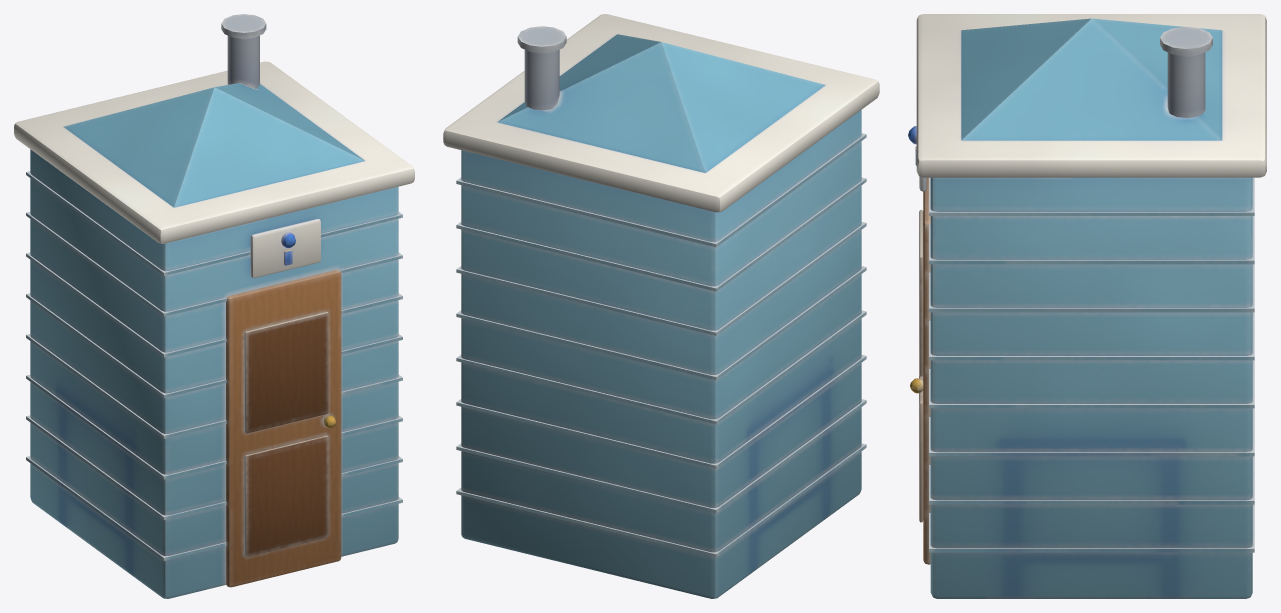
File: restroom.glb
3 renders of one model, left to right at view 1: azimuth 30°, elevation 25°; view 2: azimuth 150°, elevation 25°; view 3: azimuth 270°, elevation 25°, orthographic. The views are drawn at different scales.
Visible parts, largest first — view 1: SM_Restroom; view 2: SM_Restroom; view 3: SM_Restroom.
Part boxes in pixels (bbox=[...]): SM_Restroom: bbox=[14, 14, 414, 598]; SM_Restroom: bbox=[443, 14, 879, 598]; SM_Restroom: bbox=[908, 14, 1266, 598].
Size of what is drawn, in the model's own units: 1.85 by 3.12 by 1.9.
Materials: 1 (1 with a texture image).
